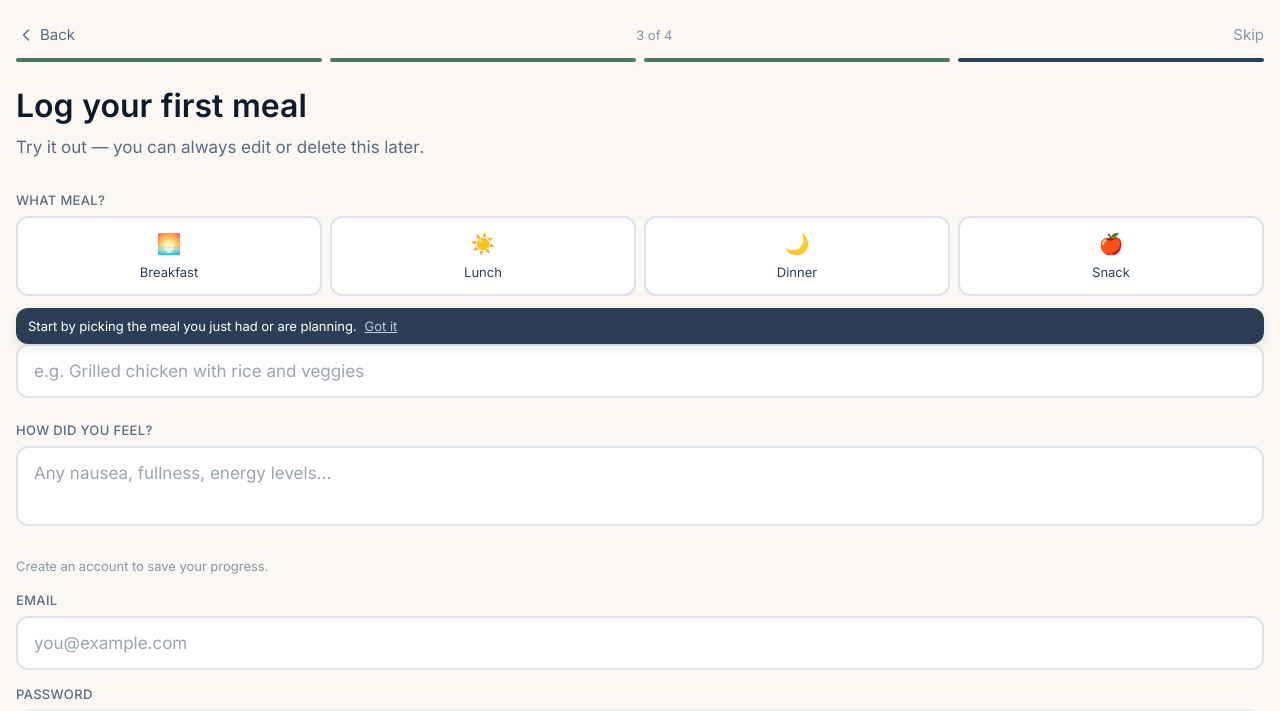
Test: FirstMealEntry › dismisses coach mark on "Got it" click
Click the button "Got it": (381, 326) [364,316,397,336]
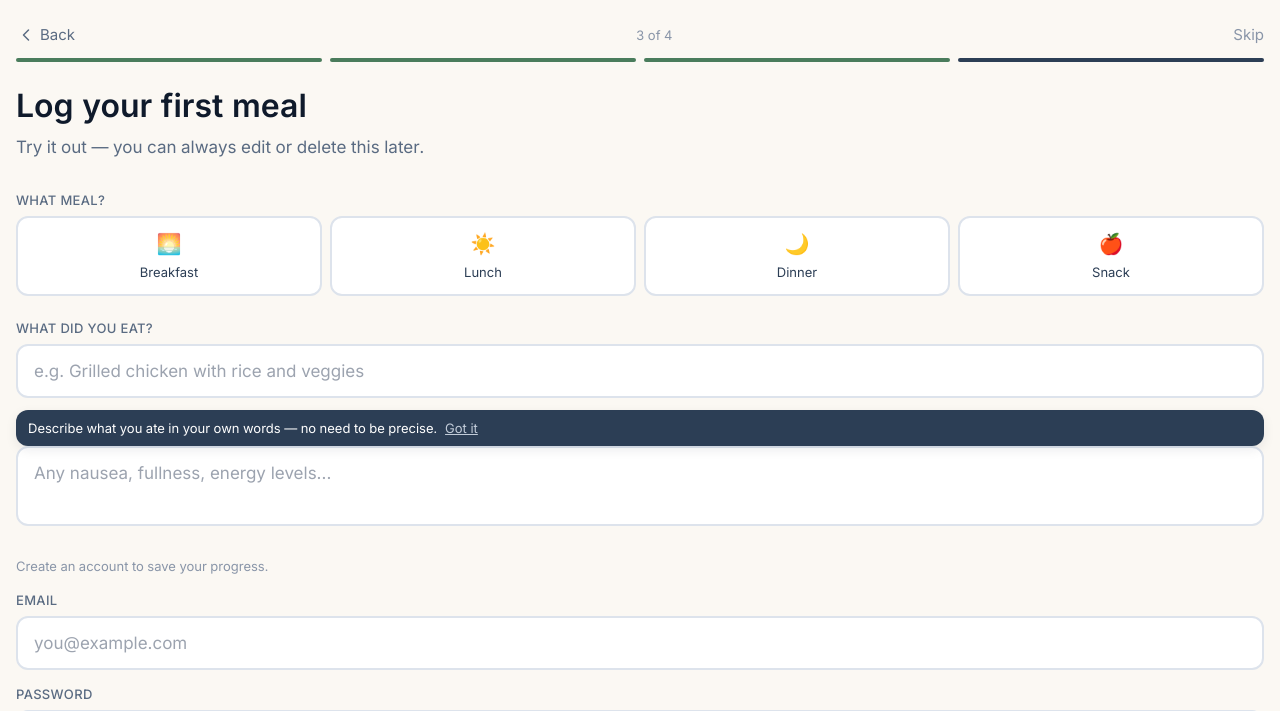
expect the tooltip "Start by picking the meal" is gone: met
